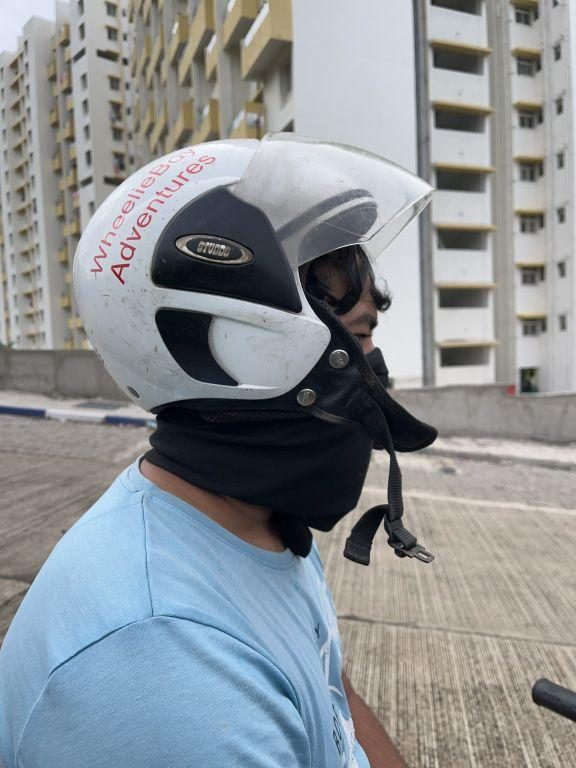helmet: (55, 124, 446, 577)
